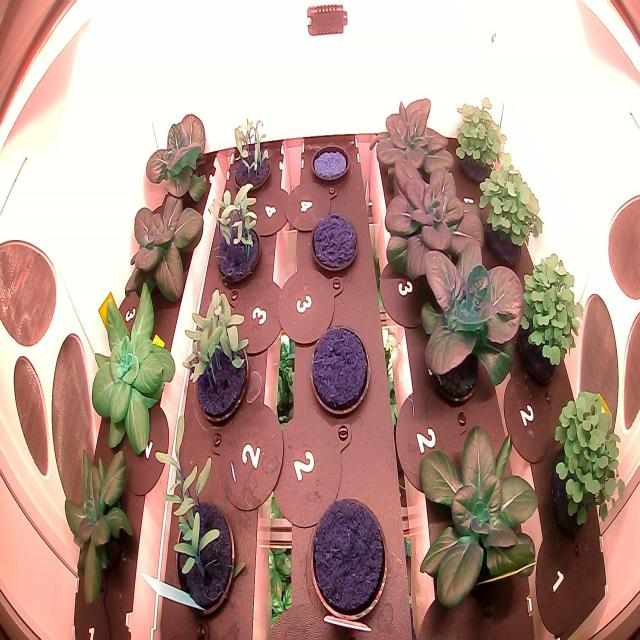germination: (204, 172, 273, 296), (224, 110, 278, 196)
pod: (308, 492, 390, 629), (305, 319, 372, 418), (308, 207, 361, 274), (309, 135, 352, 186)
young: (405, 404, 553, 625), (412, 236, 530, 417), (380, 156, 490, 300), (90, 277, 175, 463), (59, 439, 144, 621), (120, 179, 210, 318), (364, 89, 460, 199), (139, 96, 214, 215)
